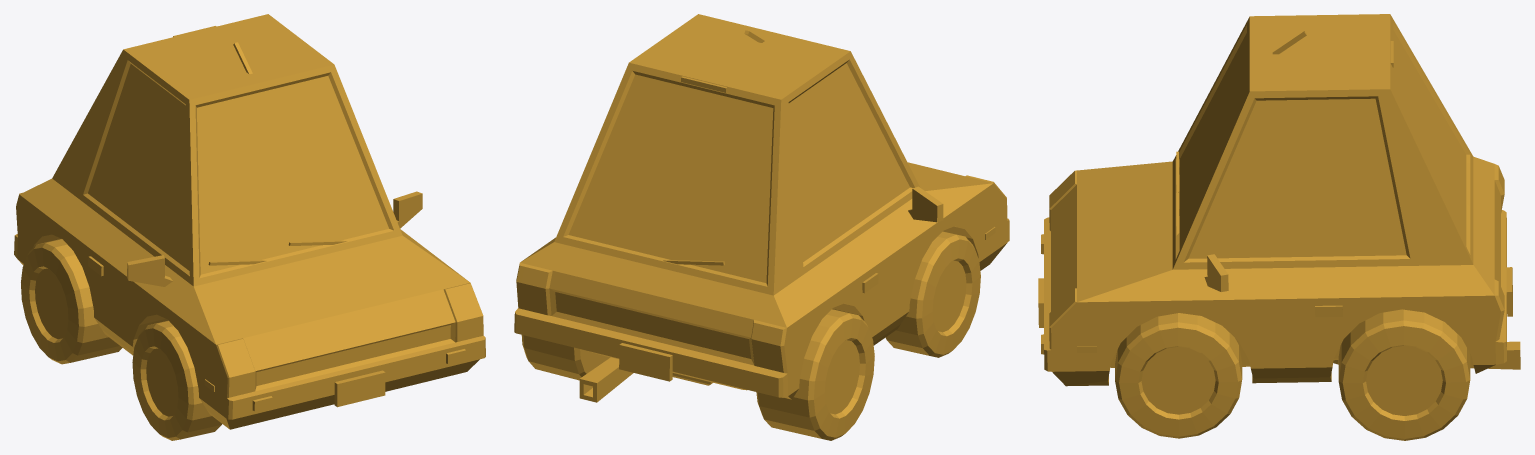
The model's file is ghost_car.fbx.
3 renders of one model, left to right at view 1: azimuth 30°, elevation 25°; view 2: azimuth 150°, elevation 25°; view 3: azimuth 270°, elevation 25°, orthographic. The views are drawn at different scales.
Parts seen in each view (by area): view 1: scocca3; view 2: scocca3; view 3: scocca3.
Boxes of the visible parts, x1,y1,x2,y2 form: scocca3: [14, 14, 485, 440]; scocca3: [514, 14, 1009, 440]; scocca3: [1038, 14, 1520, 440].
Size of the model in its own units: 1.24 by 1.29 by 1.66.
